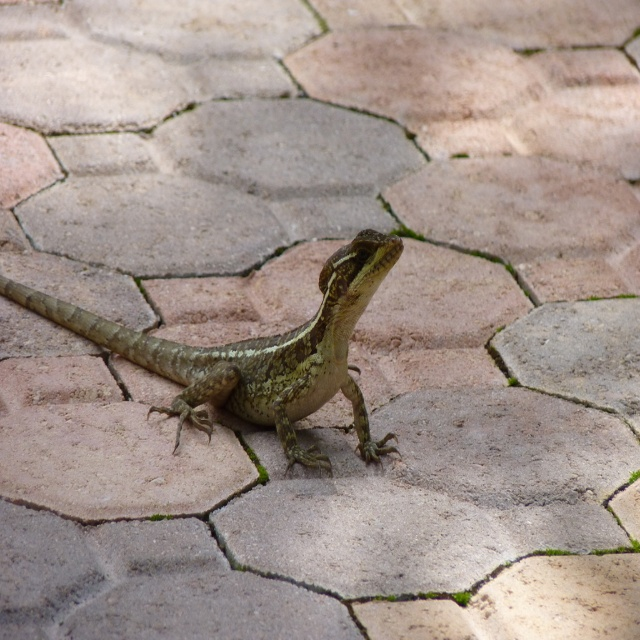Lizard: (0, 244, 421, 493)
